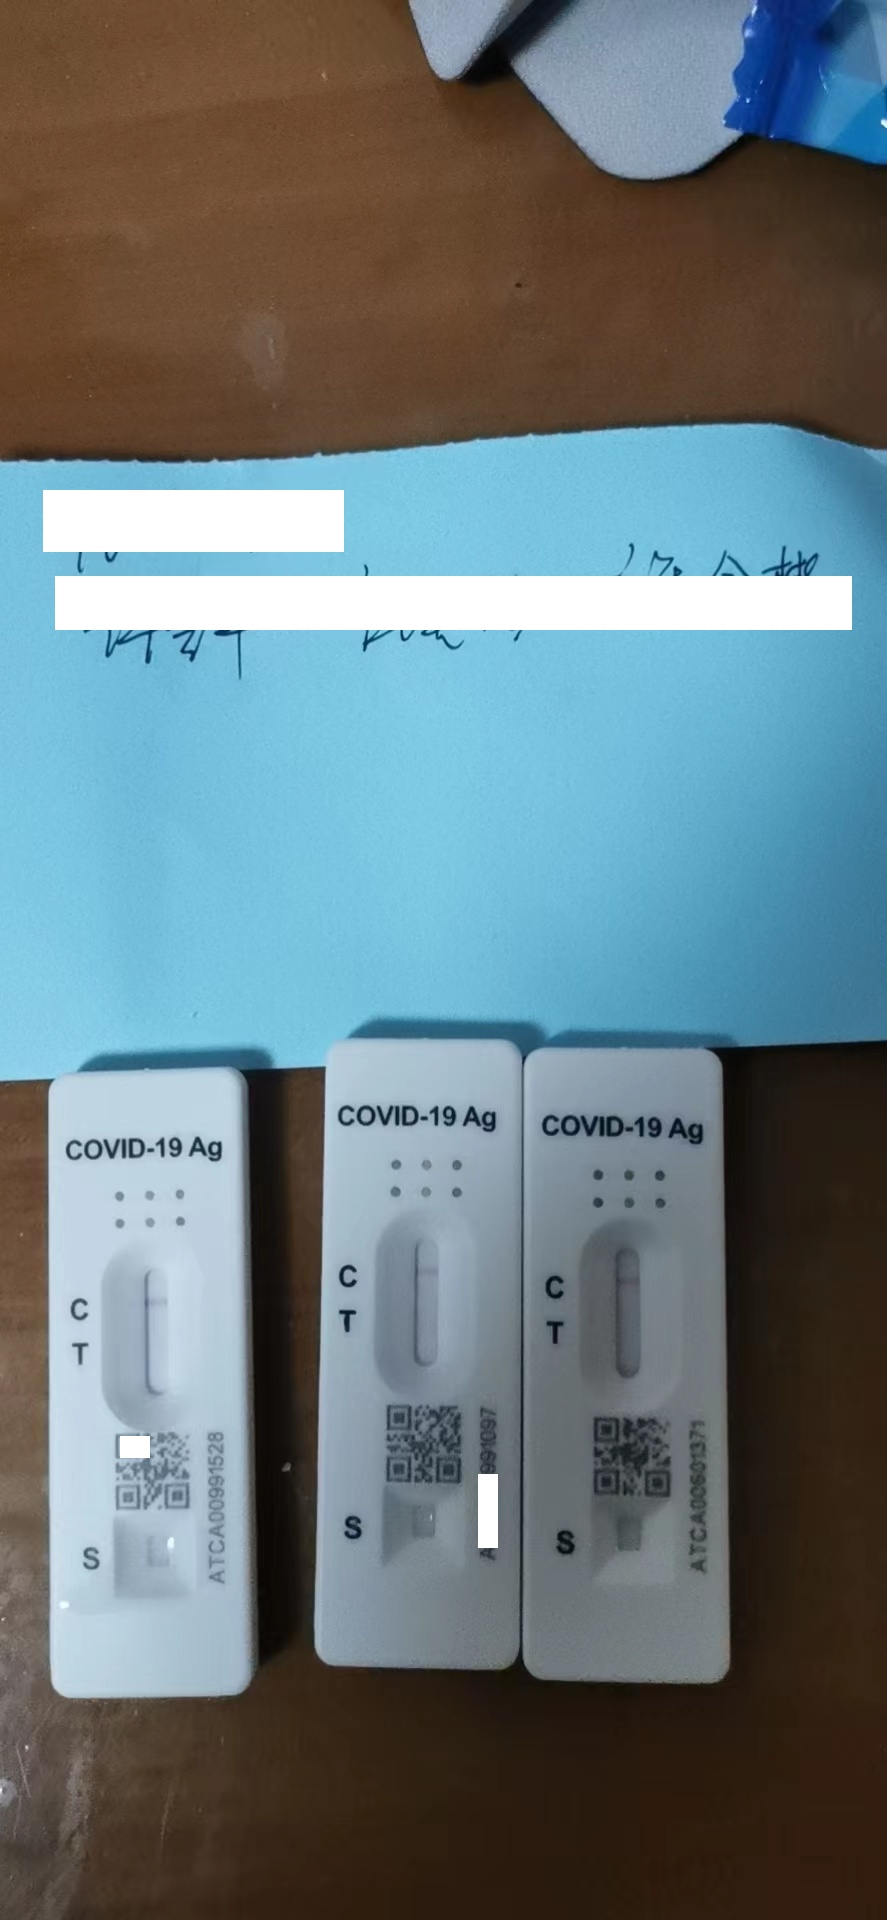negative: (110, 1254, 185, 1420), (583, 1229, 653, 1386)
